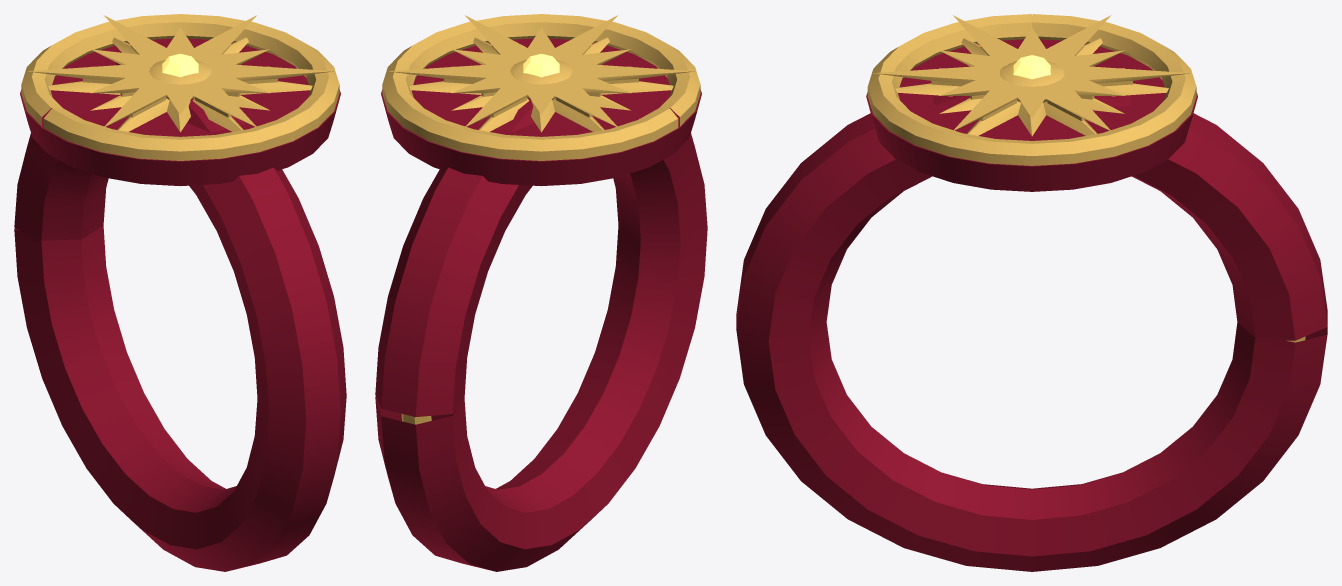
Rendered from boss_crimson_glory_accessory_2.glb.
3 renders of one model, left to right at view 1: azimuth 30°, elevation 25°; view 2: azimuth 150°, elevation 25°; view 3: azimuth 270°, elevation 25°, orthographic. The views are drawn at different scales.
Parts seen in each view (by area): view 1: boss_crimson_glory_accessory_2; view 2: boss_crimson_glory_accessory_2; view 3: boss_crimson_glory_accessory_2.
Boxes of the visible parts, x1,y1,x2,y2 form: boss_crimson_glory_accessory_2: (14, 14, 346, 571); boss_crimson_glory_accessory_2: (375, 14, 707, 571); boss_crimson_glory_accessory_2: (736, 14, 1327, 571).
Size of the model in its own units: 0.084 by 0.1411 by 0.1496.
